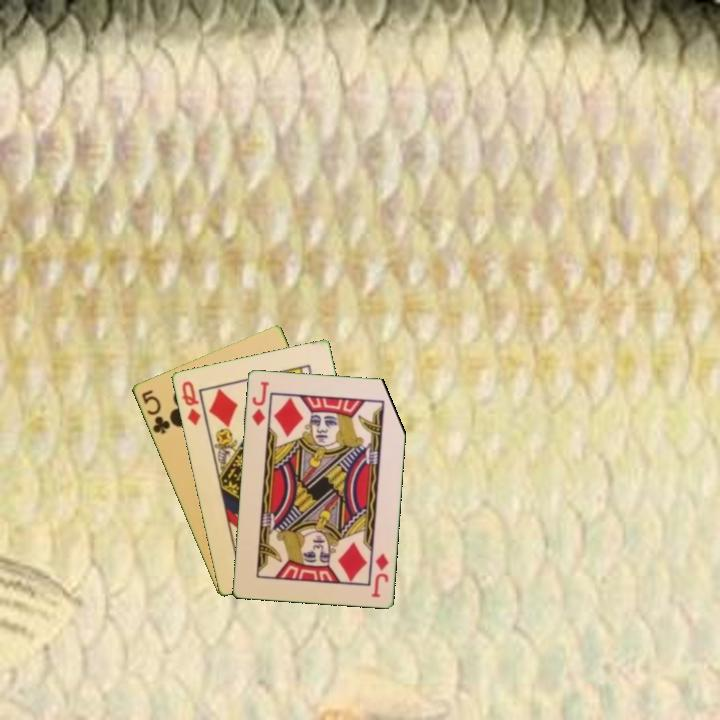5c: (138, 386, 173, 437)
Jd: (248, 377, 272, 428), (368, 549, 391, 600)
Qd: (178, 377, 203, 428)
